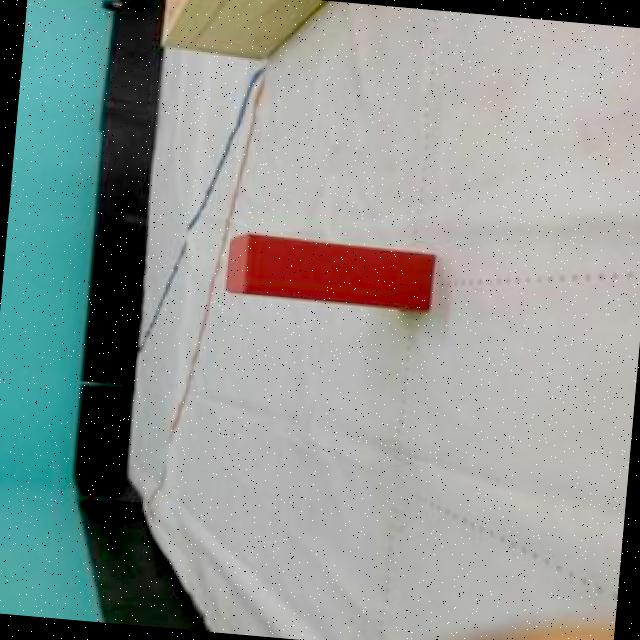redbox: (222, 230, 433, 312)
